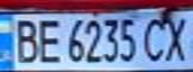2: (81, 16, 103, 64)
3: (100, 16, 124, 63)
5: (118, 15, 142, 63)
6: (63, 16, 87, 64)
B: (9, 16, 42, 64)
C: (139, 12, 172, 62)
E: (33, 16, 63, 64)
X: (160, 11, 193, 63)
